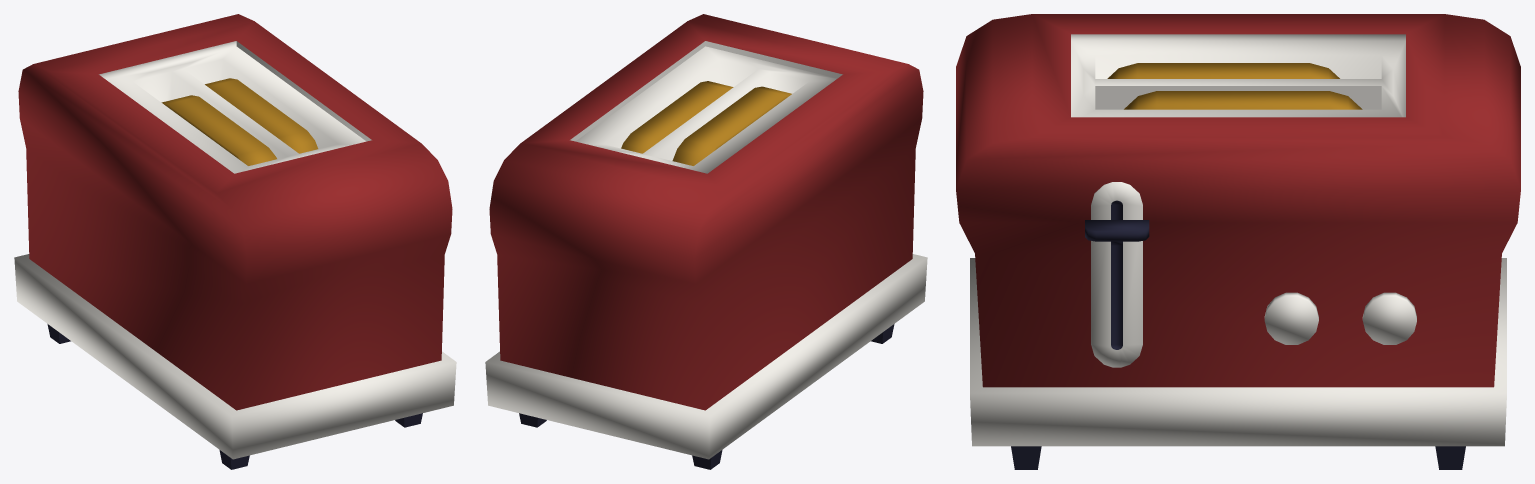
Rendered from тостер.fbx.
3 views of the same model, side by side, from view 1: azimuth 30°, elevation 25°; view 2: azimuth 150°, elevation 25°; view 3: azimuth 270°, elevation 25° (orthographic). The views are drawn at different scales.
Parts seen in each view (by area): view 1: Toaster.B.003; view 2: Toaster.B.003; view 3: Toaster.B.003.
Part boxes in pixels (x1=…): Toaster.B.003: x1=14, y1=14, x2=456, y2=469; Toaster.B.003: x1=485, y1=14, x2=927, y2=469; Toaster.B.003: x1=956, y1=14, x2=1520, y2=469.
Bounding box in the file's own units: 32.77 × 36.15 × 54.89.
